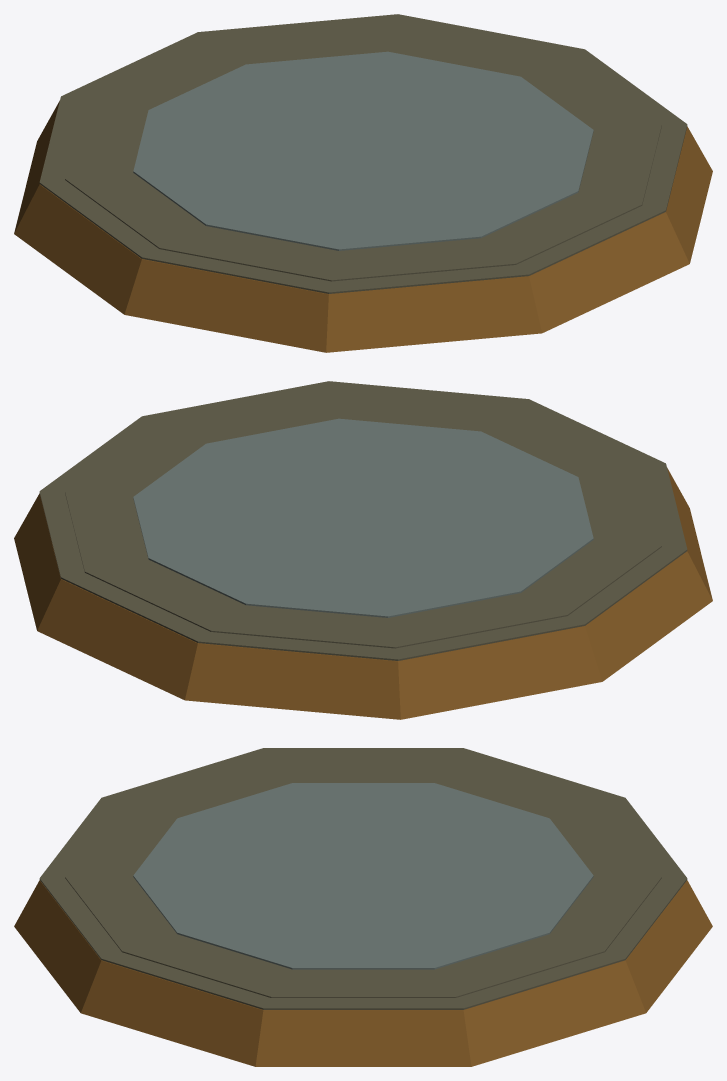
The model's file is SM_Balsa_v1_Media_LOD1.fbx.
3 renders of one model, top to bottom at view 1: azimuth 30°, elevation 25°; view 2: azimuth 150°, elevation 25°; view 3: azimuth 270°, elevation 25°, orthographic. The views are drawn at different scales.
Visible parts, largest first — view 1: SM_viveres_nules_v16_LOD1; view 2: SM_viveres_nules_v16_LOD1; view 3: SM_viveres_nules_v16_LOD1.
Part boxes in pixels (x1,y1,x2,y2): SM_viveres_nules_v16_LOD1: (14,14,712,352); SM_viveres_nules_v16_LOD1: (14,381,712,719); SM_viveres_nules_v16_LOD1: (14,748,712,1066).
Size of the model in its own units: 15.6 by 1.32 by 16.4.
